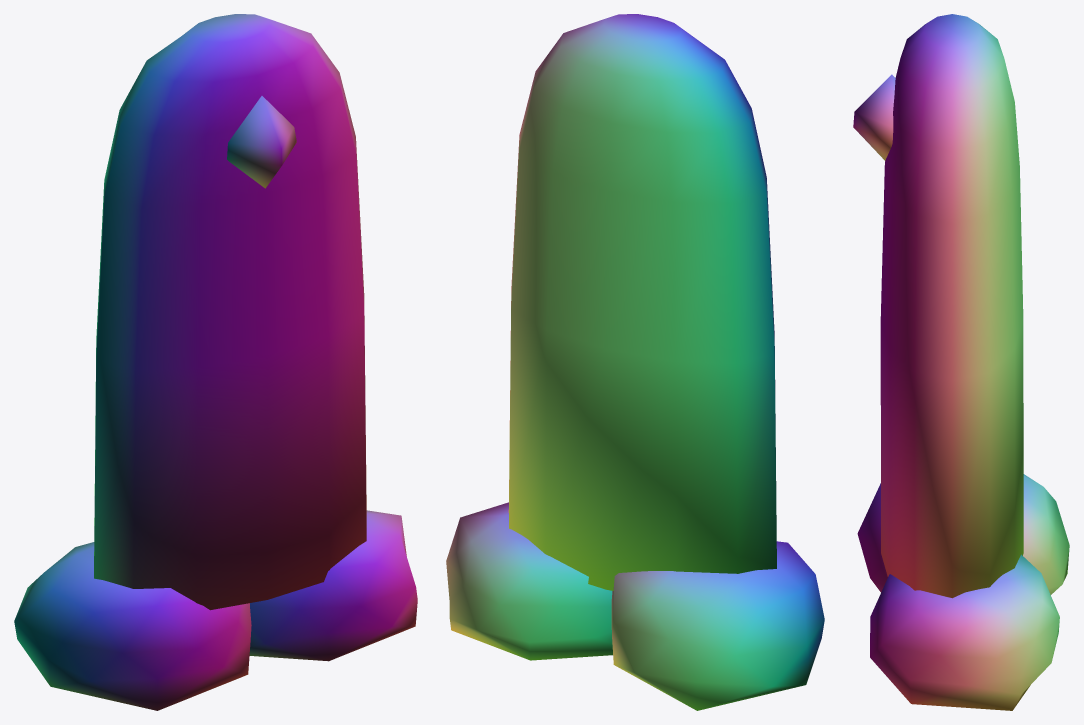
File: SM_Prop_Camp_Hearthstone.fbx
The picture shows the model from 3 angles, left to right: view 1: azimuth 30°, elevation 25°; view 2: azimuth 150°, elevation 25°; view 3: azimuth 270°, elevation 25°; orthographic projection. The views are drawn at different scales.
Parts seen in each view (by area): view 1: SM_Prop_Camp_Hearthstone; view 2: SM_Prop_Camp_Hearthstone; view 3: SM_Prop_Camp_Hearthstone.
Part boxes in pixels (x1=…): SM_Prop_Camp_Hearthstone: x1=14, y1=14, x2=417, y2=710; SM_Prop_Camp_Hearthstone: x1=446, y1=14, x2=824, y2=710; SM_Prop_Camp_Hearthstone: x1=853, y1=14, x2=1069, y2=710.
Size of the model in its own units: 0.5842 by 0.9516 by 0.3093.
